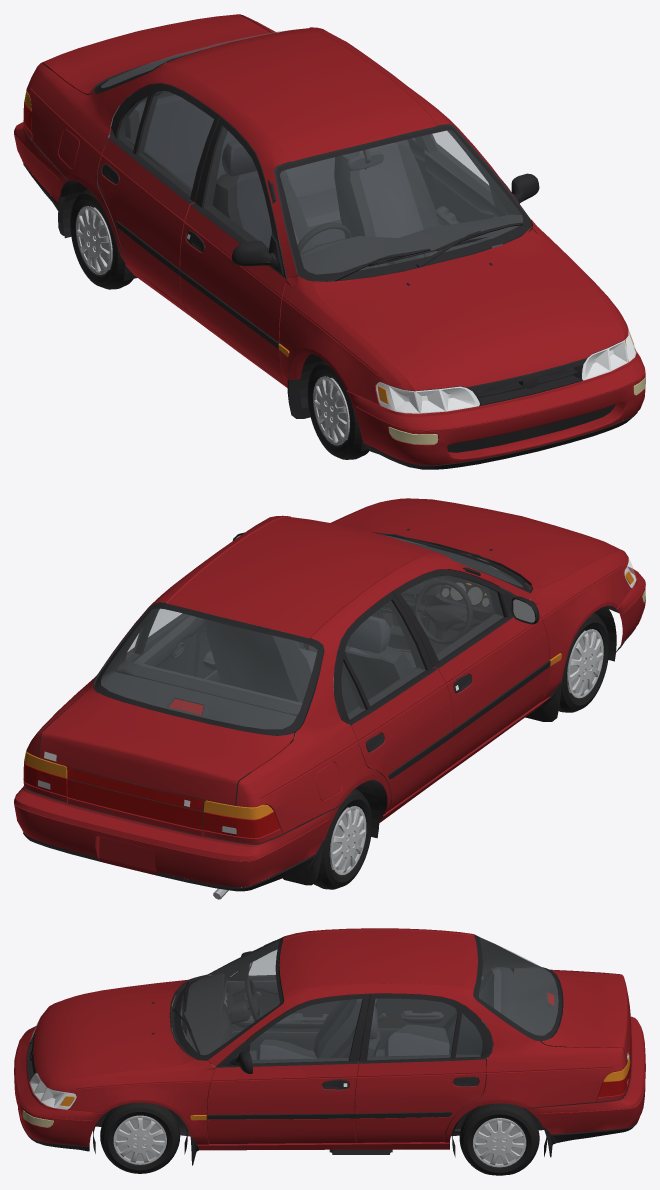
Rendered from product.glb.
The picture shows the model from 3 angles, top to bottom: view 1: azimuth 30°, elevation 25°; view 2: azimuth 150°, elevation 25°; view 3: azimuth 270°, elevation 25°; orthographic projection. The views are drawn at different scales.
Parts seen in each view (by area): view 1: body, hood, windshield, door_fr, door_rr, bumper_front, seat_front_l, fender_r, trunk, seat_rear, dashboard, door_fl (+12 smaller); view 2: body, trunk, rear_window, door_fr, door_rr, bumper_rear, hood, seat_front_l, fender_r, interior_trim, dashboard, seat_front_r (+13 smaller); view 3: body, door_fl, door_rl, hood, fender_l, windshield, trunk, rear_window, wheel_rl, wheel_fl, bumper_rear, seat_rear (+11 smaller).
Part boxes in pixels (<box>): body: <box>23,14,537,451</box>; hood: <box>314,229,624,391</box>; windshield: <box>280,130,522,274</box>; door_fr: <box>179,116,289,382</box>; door_rr: <box>97,83,220,308</box>; bumper_front: <box>346,348,645,469</box>; seat_front_l: <box>305,139,438,238</box>; fender_r: <box>278,276,414,405</box>; trunk: <box>42,14,271,94</box>; seat_rear: <box>125,91,339,218</box>; dashboard: <box>301,214,522,274</box>; door_fl: <box>422,131,524,225</box>; body: <box>23,515,617,885</box>; trunk: <box>39,684,294,836</box>; rear_window: <box>101,609,317,728</box>; door_fr: <box>392,569,550,771</box>; door_rr: <box>333,592,454,812</box>; bumper_rear: <box>14,786,339,891</box>; hood: <box>335,498,623,587</box>; seat_front_l: <box>206,619,316,702</box>; fender_r: <box>531,550,631,701</box>; interior_trim: <box>101,570,522,788</box>; dashboard: <box>374,535,522,667</box>; seat_front_r: <box>341,616,414,713</box>; body: <box>93,928,631,1165</box>; door_fl: <box>207,994,370,1144</box>; door_rl: <box>354,993,492,1143</box>; hood: <box>33,979,192,1086</box>; fender_l: <box>47,1059,215,1144</box>; windshield: <box>180,940,279,1054</box>; trunk: <box>541,967,631,1078</box>; rear_window: <box>479,937,558,1035</box>; wheel_rl: <box>459,1103,539,1175</box>; wheel_fl: <box>100,1102,180,1173</box>; bumper_rear: <box>525,1016,645,1142</box>; seat_rear: <box>388,967,513,1056</box>.
Size of the model in its own units: 1.95 by 1.42 by 4.61.
